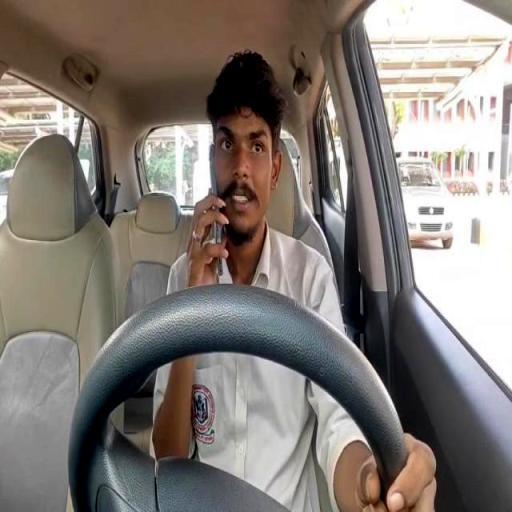Talking_on_phone: (179, 48, 284, 303)
